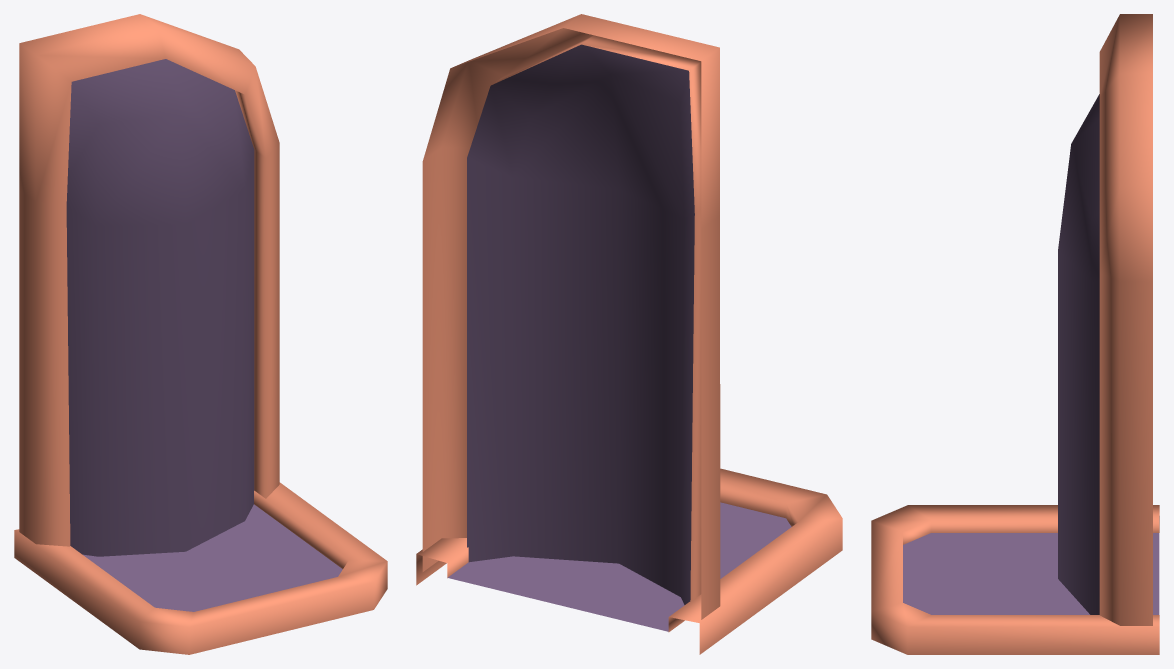
File: HotPool.fbx
3 renders of one model, left to right at view 1: azimuth 30°, elevation 25°; view 2: azimuth 150°, elevation 25°; view 3: azimuth 270°, elevation 25°, orthographic. The views are drawn at different scales.
Parts seen in each view (by area): view 1: polySurface18, polySurface16, polySurface12, polySurface14; view 2: polySurface18, polySurface16, polySurface12, polySurface14; view 3: polySurface16, polySurface18, polySurface12, polySurface14.
Part boxes in pixels (<box>): polySurface18: <box>66,59,254,556</box>; polySurface16: <box>19,14,279,546</box>; polySurface12: <box>14,482,387,654</box>; polySurface14: <box>83,504,342,611</box>; polySurface18: <box>467,44,694,604</box>; polySurface16: <box>422,14,720,619</box>; polySurface12: <box>416,468,842,654</box>; polySurface14: <box>447,502,791,631</box>; polySurface16: <box>1099,14,1152,625</box>; polySurface18: <box>1058,94,1099,614</box>; polySurface12: <box>871,505,1159,654</box>; polySurface14: <box>903,533,1159,614</box>.
Bounding box in the file's own units: 11.19 × 22.27 × 11.2.
